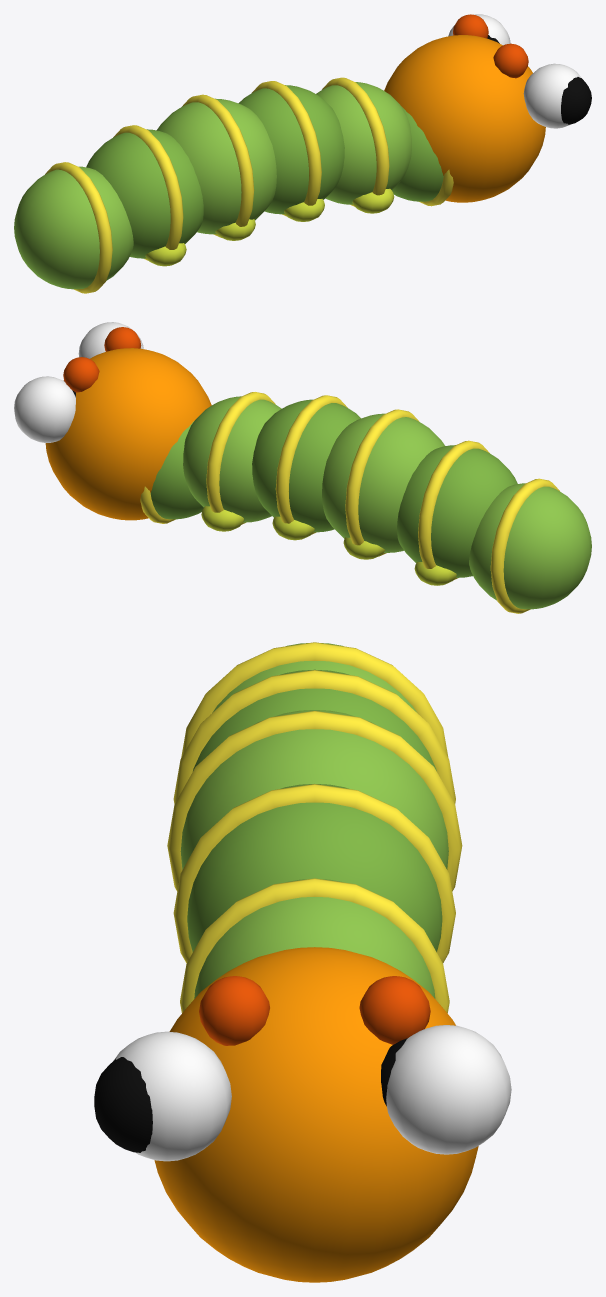
Rendered from ulat.glb.
3 views of the same model, one above another, from view 1: azimuth 30°, elevation 25°; view 2: azimuth 150°, elevation 25°; view 3: azimuth 270°, elevation 25° (orthographic). The views are drawn at different scales.
Bounding box in the file's own units: 1.52 × 0.435 × 0.5221.
